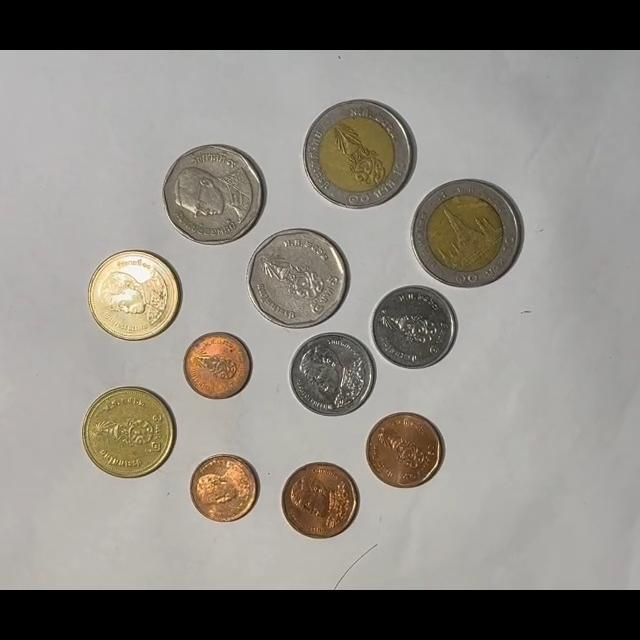1-baht: (289, 332, 376, 418), (370, 285, 456, 370)
10-baht: (303, 99, 416, 210), (411, 180, 522, 288)
2-baht: (87, 250, 180, 343), (82, 386, 175, 478)
25-satang: (190, 454, 262, 524), (184, 331, 253, 399)
5-baht: (162, 144, 266, 246), (248, 228, 350, 329)
50-satang: (281, 461, 360, 539), (365, 412, 444, 489)
